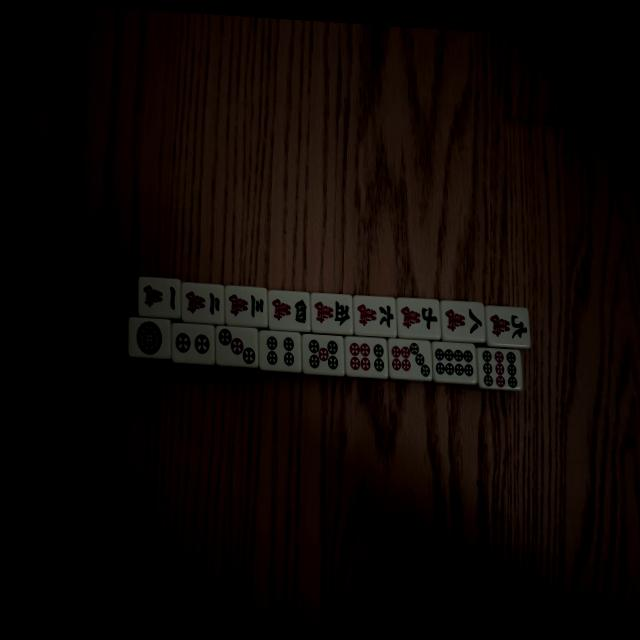m1: (136, 274, 182, 322)
m2: (179, 282, 225, 323)
m3: (225, 286, 267, 325)
m4: (267, 289, 311, 331)
m5: (310, 293, 354, 335)
m6: (353, 295, 397, 337)
m7: (397, 298, 441, 339)
m8: (441, 301, 484, 340)
m9: (485, 308, 528, 347)
t1: (129, 317, 170, 361)
t2: (170, 322, 215, 365)
t3: (214, 325, 257, 369)
t4: (261, 330, 302, 374)
t5: (303, 334, 345, 379)
t6: (345, 336, 388, 379)
t7: (387, 339, 430, 381)
t8: (435, 343, 477, 385)
t9: (477, 348, 520, 392)
